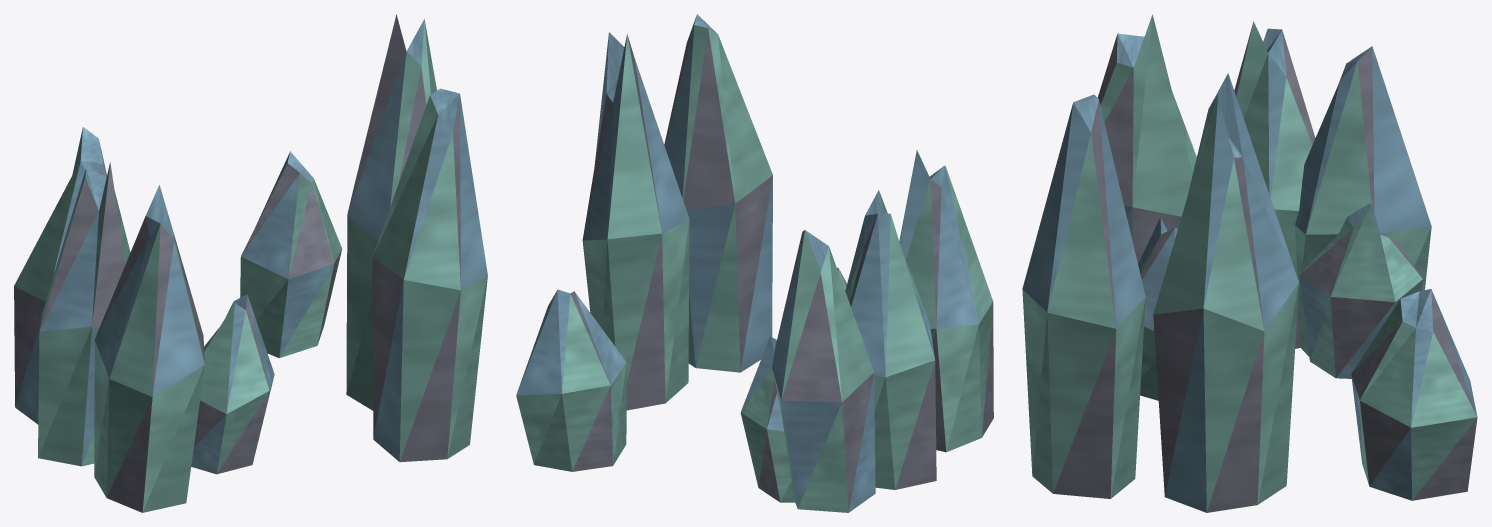
Rendered from rock_crystal_cluster_03.fbx.
3 renders of one model, left to right at view 1: azimuth 30°, elevation 25°; view 2: azimuth 150°, elevation 25°; view 3: azimuth 270°, elevation 25°, orthographic. The views are drawn at different scales.
Visible parts, largest first — view 1: rock_crystal_cluster_03; view 2: rock_crystal_cluster_03; view 3: rock_crystal_cluster_03.
Boxes of the visible parts, <box> form: rock_crystal_cluster_03: <box>14,14,487,512</box>; rock_crystal_cluster_03: <box>516,14,993,512</box>; rock_crystal_cluster_03: <box>1022,14,1477,512</box>.
Bounding box in the file's own units: 224 × 205 × 200.
Materials: 1 (1 with a texture image).
